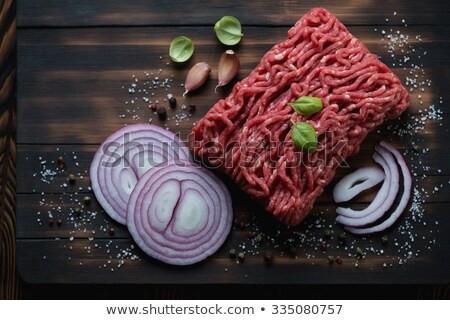ground_beef: (194, 8, 403, 220)
